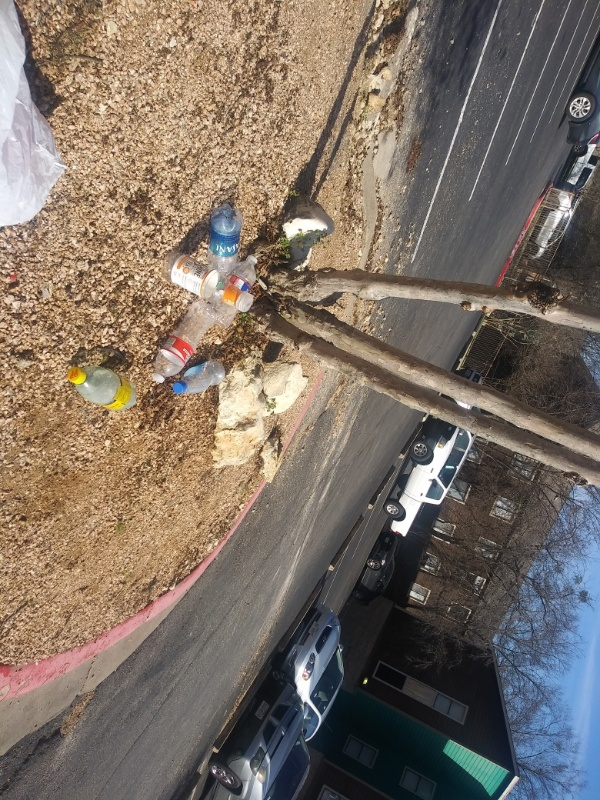bottle: (154, 248, 259, 316), (147, 300, 220, 391), (146, 298, 220, 387), (206, 253, 265, 335), (65, 359, 144, 414), (212, 198, 238, 282), (172, 359, 229, 397)
